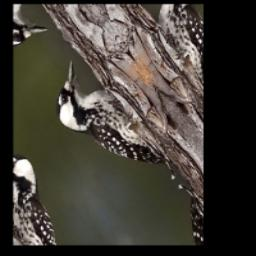Woodpecker: (39, 42, 171, 210)
